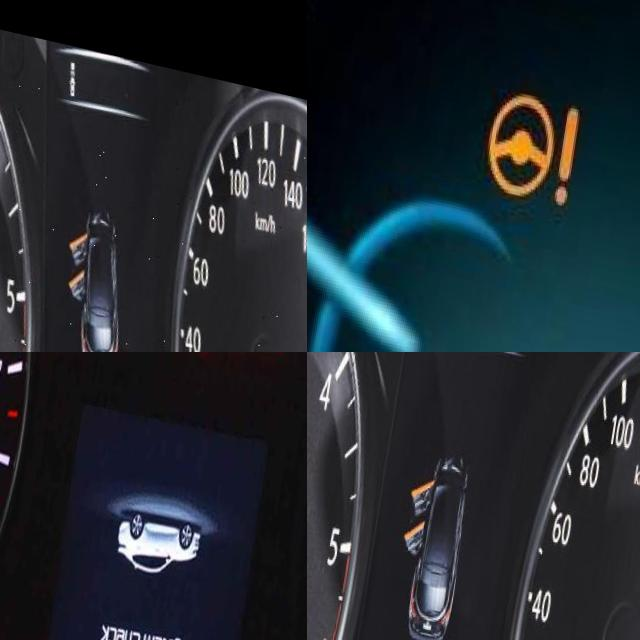Electronic Power Steering: (492, 64, 591, 189)
